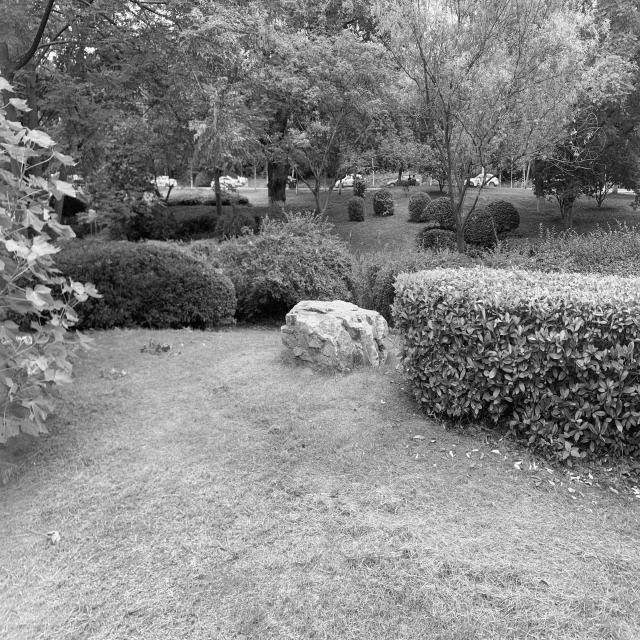Stone: (282, 300, 386, 368)
